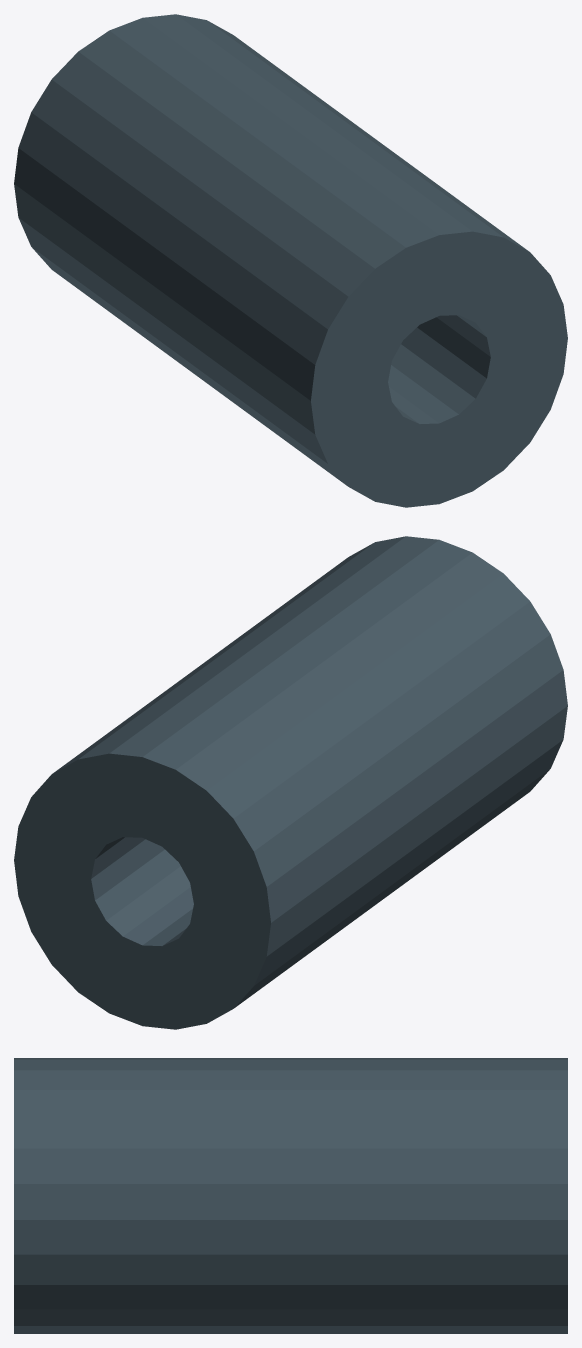
The model's file is kit_spacer_20.obj.
3 renders of one model, top to bottom at view 1: azimuth 30°, elevation 25°; view 2: azimuth 150°, elevation 25°; view 3: azimuth 270°, elevation 25°, orthographic. The views are drawn at different scales.
Visible parts, largest first — view 1: kit_spacer_20; view 2: kit_spacer_20; view 3: kit_spacer_20.
Boxes of the visible parts, x1=… form: kit_spacer_20: x1=14, y1=14, x2=567, y2=507; kit_spacer_20: x1=14, y1=536, x2=567, y2=1029; kit_spacer_20: x1=14, y1=1058, x2=567, y2=1333.
Size of the model in its own units: 0.01 by 0.01 by 0.02.
